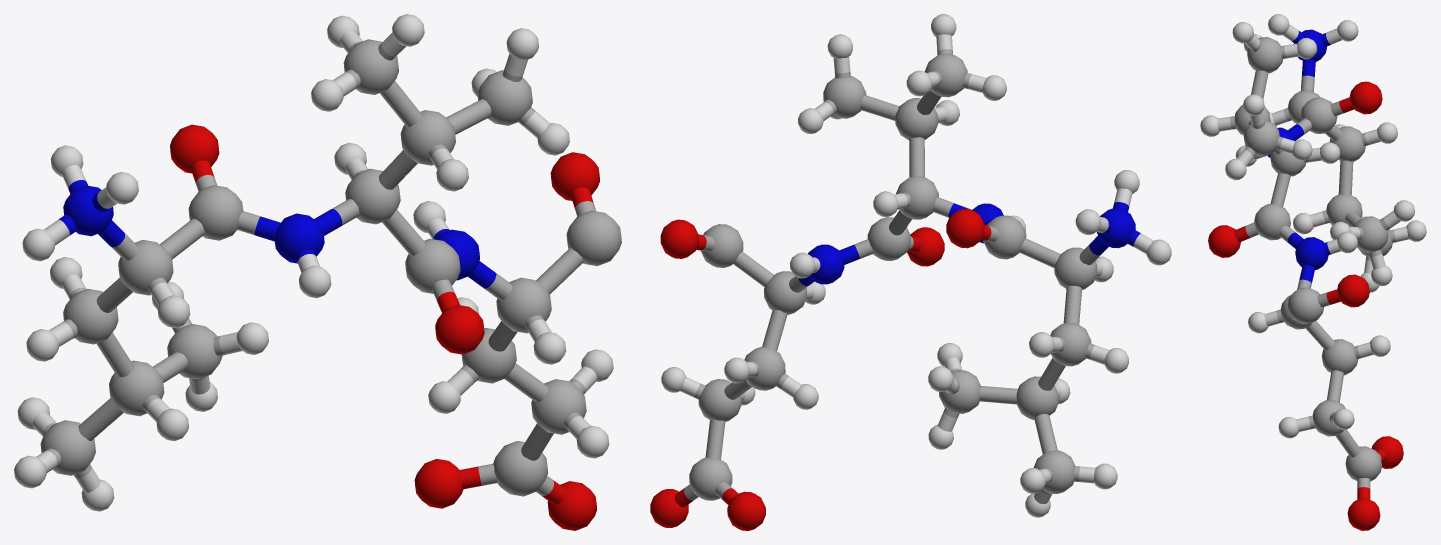
Rendered from pept1.gltf.
3 views of the same model, side by side, from view 1: azimuth 30°, elevation 25°; view 2: azimuth 150°, elevation 25°; view 3: azimuth 270°, elevation 25° (orthographic). The views are drawn at different scales.
Parts seen in each view (by area): view 1: vmd_mol0_rep2; view 2: vmd_mol0_rep2; view 3: vmd_mol0_rep2.
Boxes of the visible parts, x1,y1,x2,y2 form: vmd_mol0_rep2: [14, 14, 621, 530]; vmd_mol0_rep2: [650, 14, 1171, 530]; vmd_mol0_rep2: [1200, 14, 1426, 530].
Size of the model in its own units: 1.38 by 1.38 by 0.6658.
